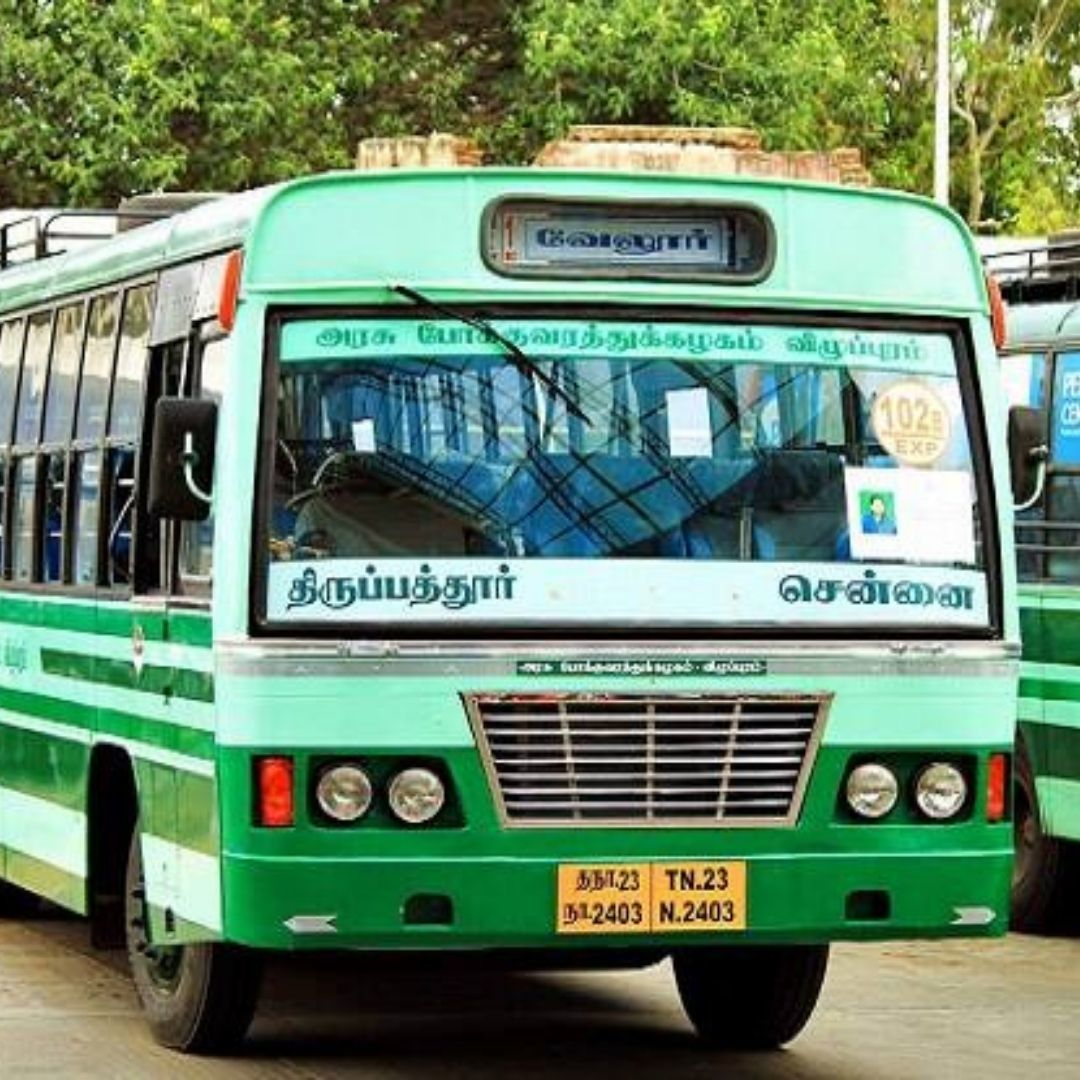bus: (1, 168, 1013, 1068)
numberplate: (553, 857, 753, 934)
